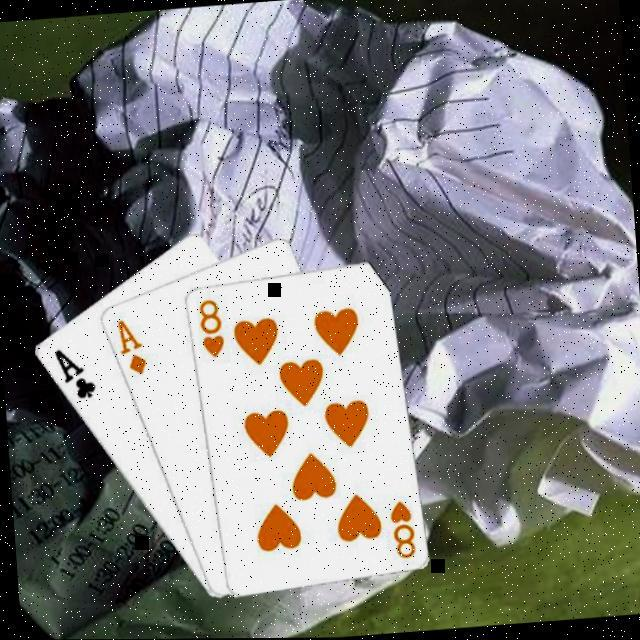8H: (192, 294, 226, 360), (384, 496, 417, 560)
AC: (48, 342, 98, 402)
AD: (112, 314, 148, 378)
